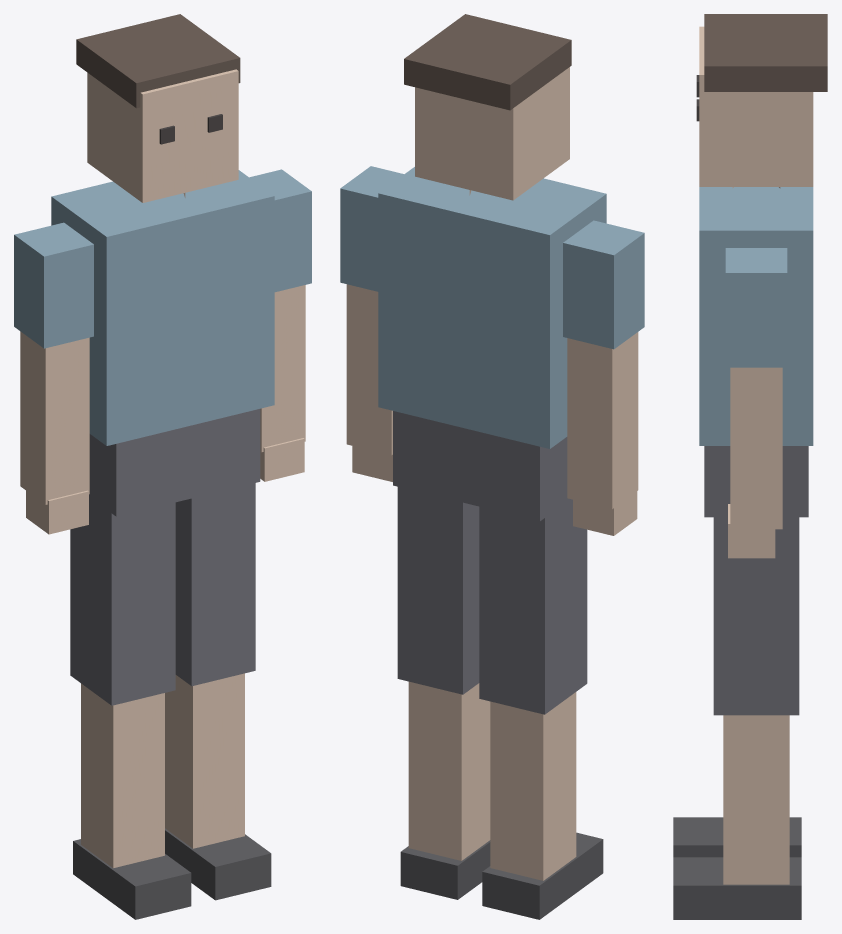
The model's file is player_base.glb.
The picture shows the model from 3 angles, left to right: view 1: azimuth 30°, elevation 25°; view 2: azimuth 150°, elevation 25°; view 3: azimuth 270°, elevation 25°; orthographic projection. The views are drawn at different scales.
Parts seen in each view (by area): view 1: torso, leg_r, leg_l, head, arm_r, arm_l; view 2: torso, leg_r, leg_l, head, arm_r, arm_l; view 3: leg_l, torso, head, arm_l, leg_r.
Part boxes in pixels (x1,y1,x2,y2): torso: [51, 170, 274, 516]; leg_r: [70, 497, 191, 919]; leg_l: [165, 483, 271, 900]; head: [76, 14, 240, 202]; arm_r: [14, 222, 93, 534]; arm_l: [249, 169, 311, 481]; torso: [378, 167, 606, 521]; leg_r: [479, 499, 603, 919]; leg_l: [397, 487, 490, 899]; head: [404, 14, 571, 200]; arm_r: [563, 220, 644, 535]; arm_l: [340, 166, 403, 481]; leg_l: [673, 517, 801, 919]; torso: [699, 187, 813, 517]; head: [696, 14, 827, 186]; arm_l: [725, 248, 787, 558]; leg_r: [673, 817, 801, 857].
Bounding box in the file's own units: 0.67 × 1.97 × 0.325.
